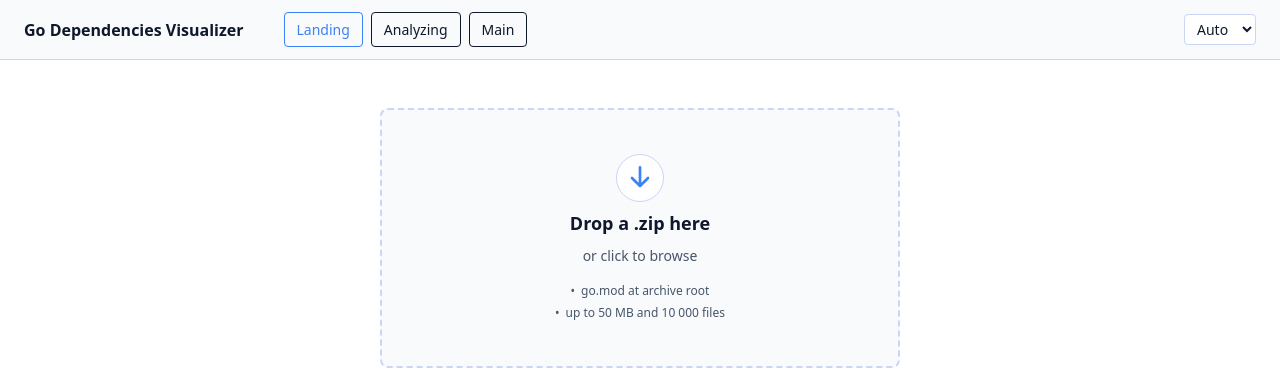
App › switches to the analyzing screen via the top-bar Analyzing button
Click the button "Analyzing" at {"x": 416, "y": 30}, box [371,12,460,47]
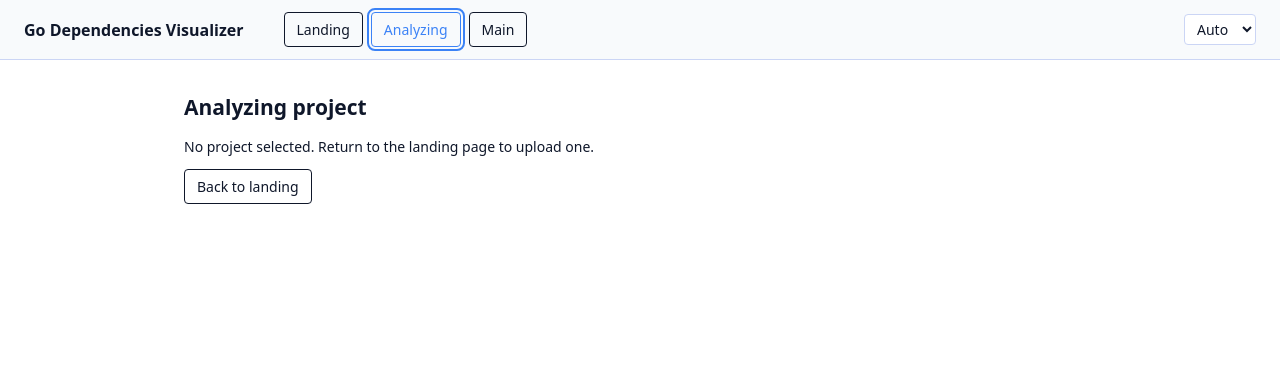
Result: the element with test id "screen-analyzing" is shown at [184,93,594,204]
